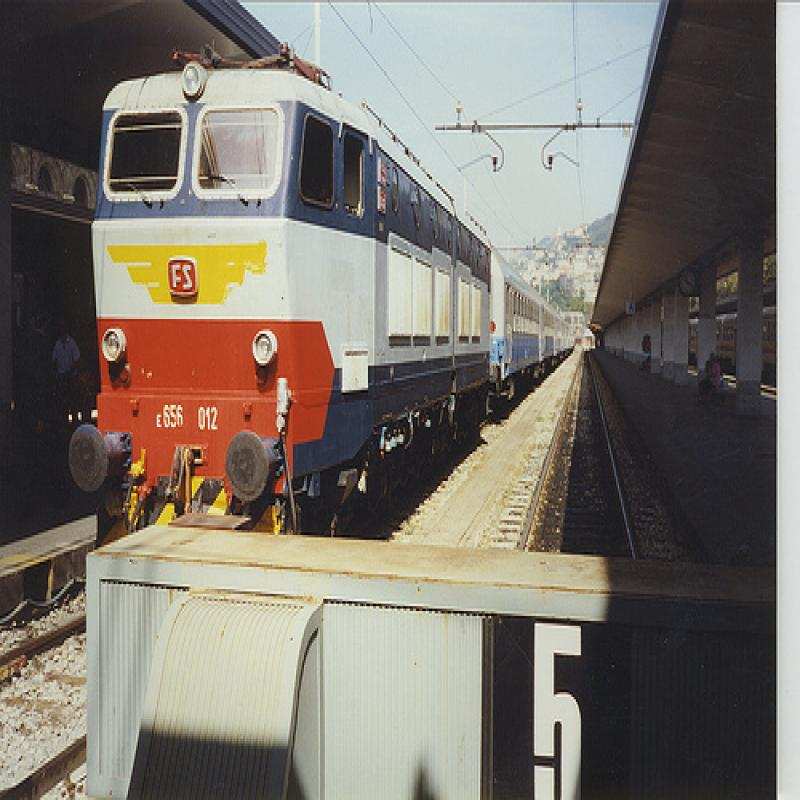train: (70, 48, 585, 553)
